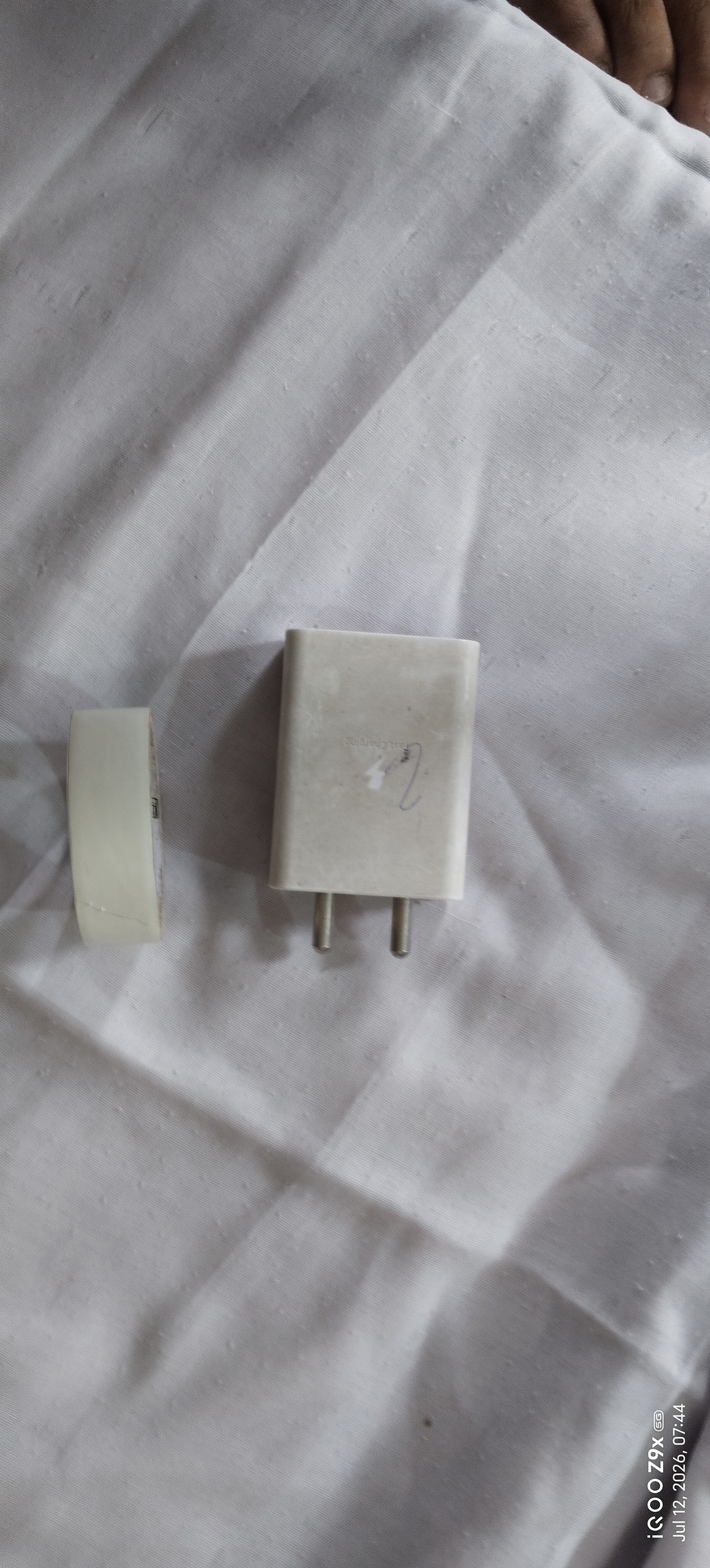charger: (258, 591, 495, 991)
tape_roll: (29, 667, 206, 997)
